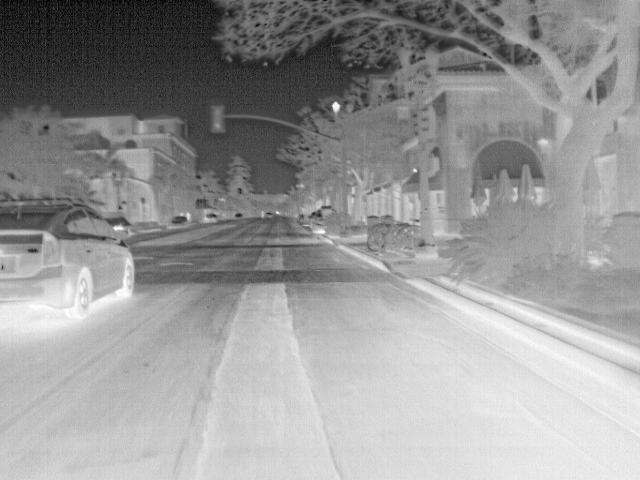car: (0, 203, 135, 315), (309, 210, 326, 234), (168, 214, 189, 228), (202, 213, 218, 224)
